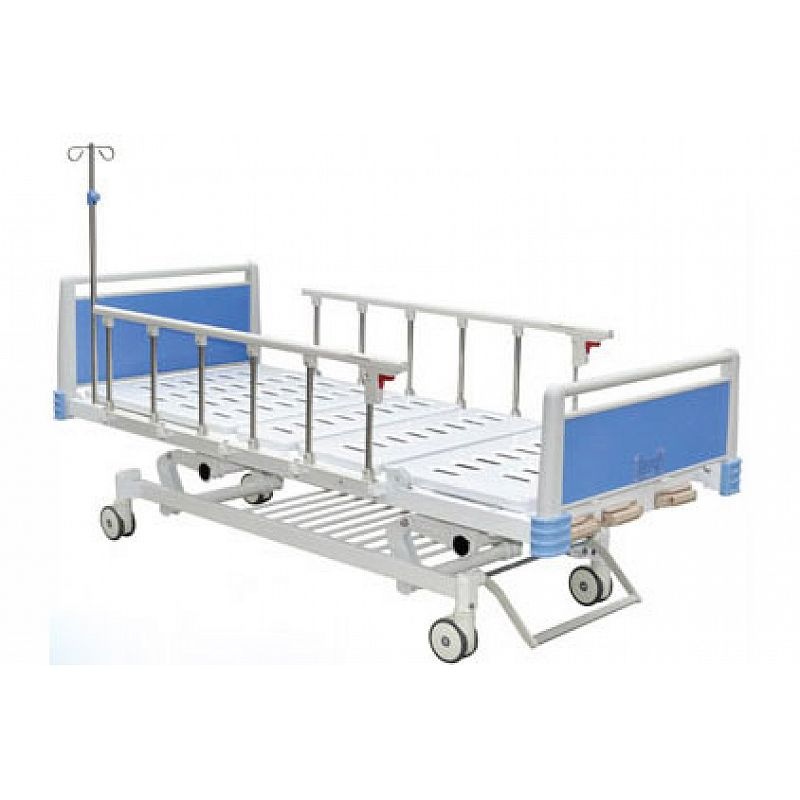trolley_bed: (51, 137, 749, 666)
